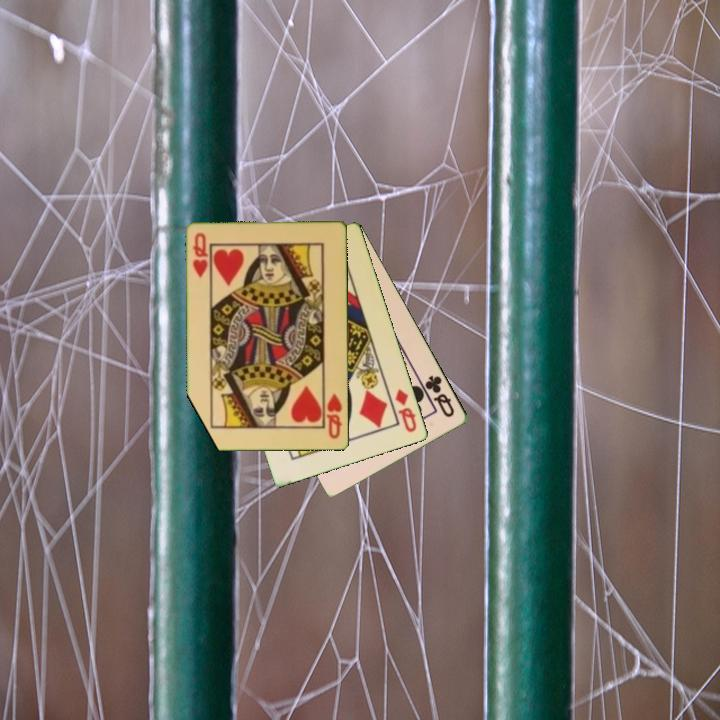Qc: (422, 372, 458, 421)
Qd: (392, 385, 420, 436)
Qh: (189, 230, 211, 281), (323, 391, 345, 441)
